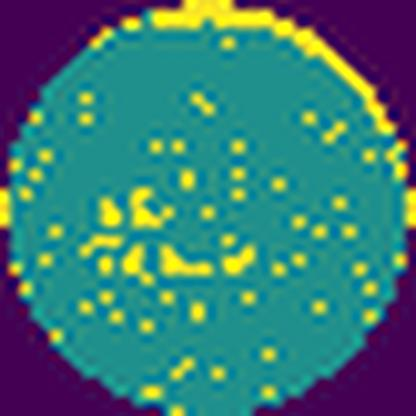Edge-Loc: (88, 2, 408, 143)
